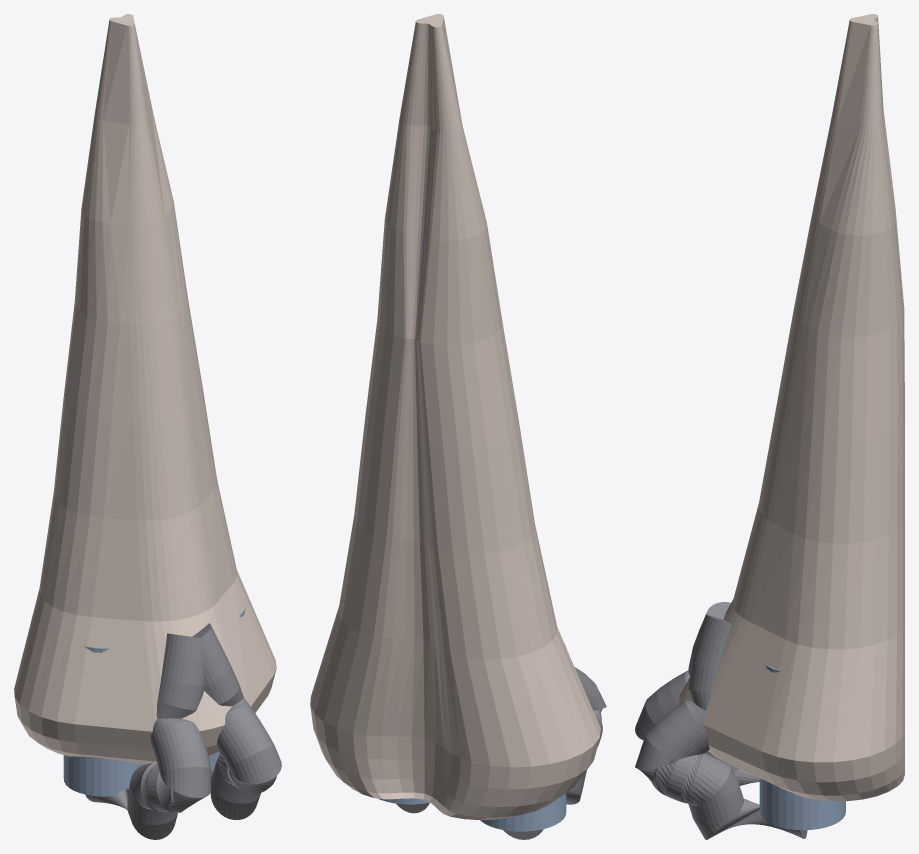
Rendered from candidate_balanced.glb.
3 renders of one model, left to right at view 1: azimuth 30°, elevation 25°; view 2: azimuth 150°, elevation 25°; view 3: azimuth 270°, elevation 25°, orthographic. The views are drawn at different scales.
Parts seen in each view (by area): view 1: body, frame_left, frame_right, plug_left; view 2: body, plug_left, frame_left; view 3: body, frame_right, plug_right, frame_left.
Part boxes in pixels (<box>): body: <box>14,14,276,764</box>; frame_left: <box>85,633,211,839</box>; frame_right: <box>192,623,281,819</box>; plug_left: <box>63,646,144,796</box>; body: <box>310,14,600,819</box>; plug_left: <box>480,643,566,831</box>; frame_left: <box>503,667,606,839</box>; body: <box>679,14,904,801</box>; frame_right: <box>635,614,807,839</box>; plug_right: <box>759,664,845,830</box>; frame_left: <box>635,602,759,785</box>.
Bounding box in the file's own units: 20.49 × 61.09 × 18.77.
